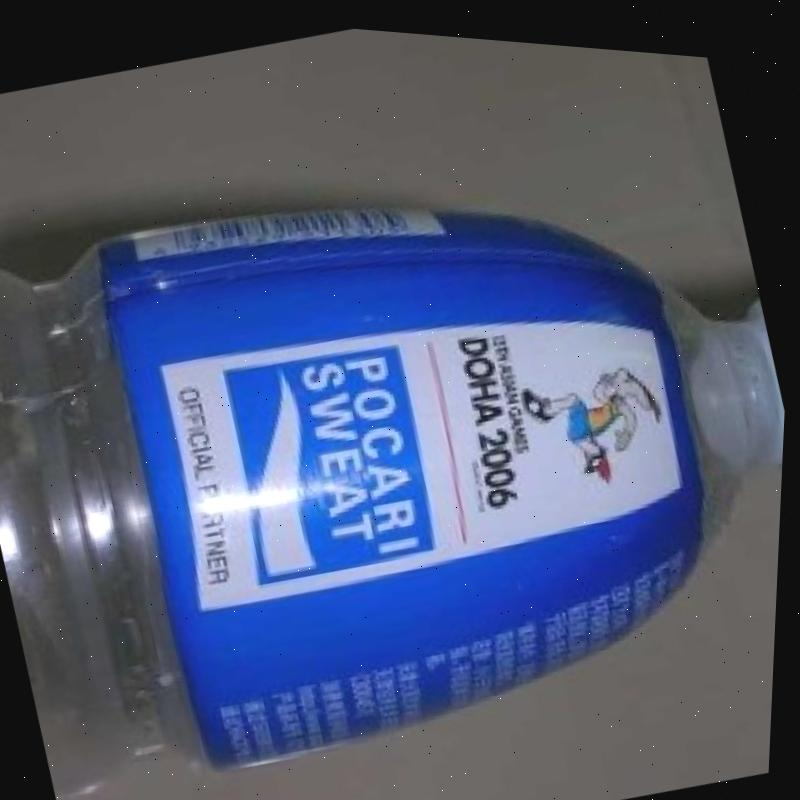botella: (0, 68, 798, 800)
